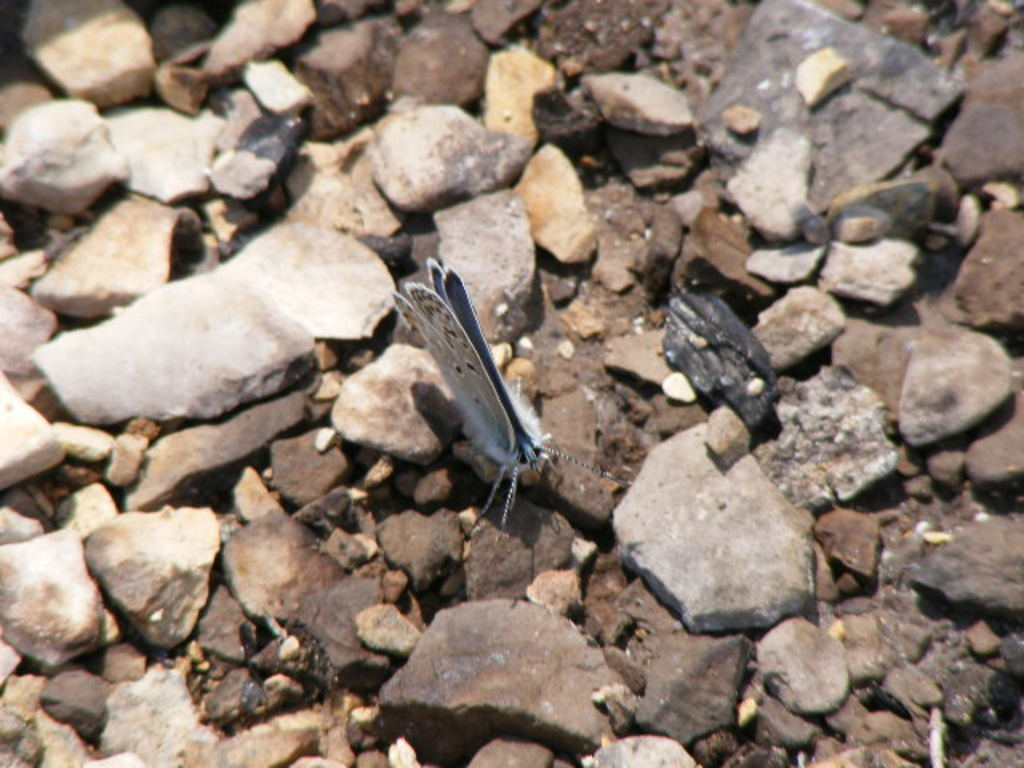Butterfly: (375, 226, 565, 516)
